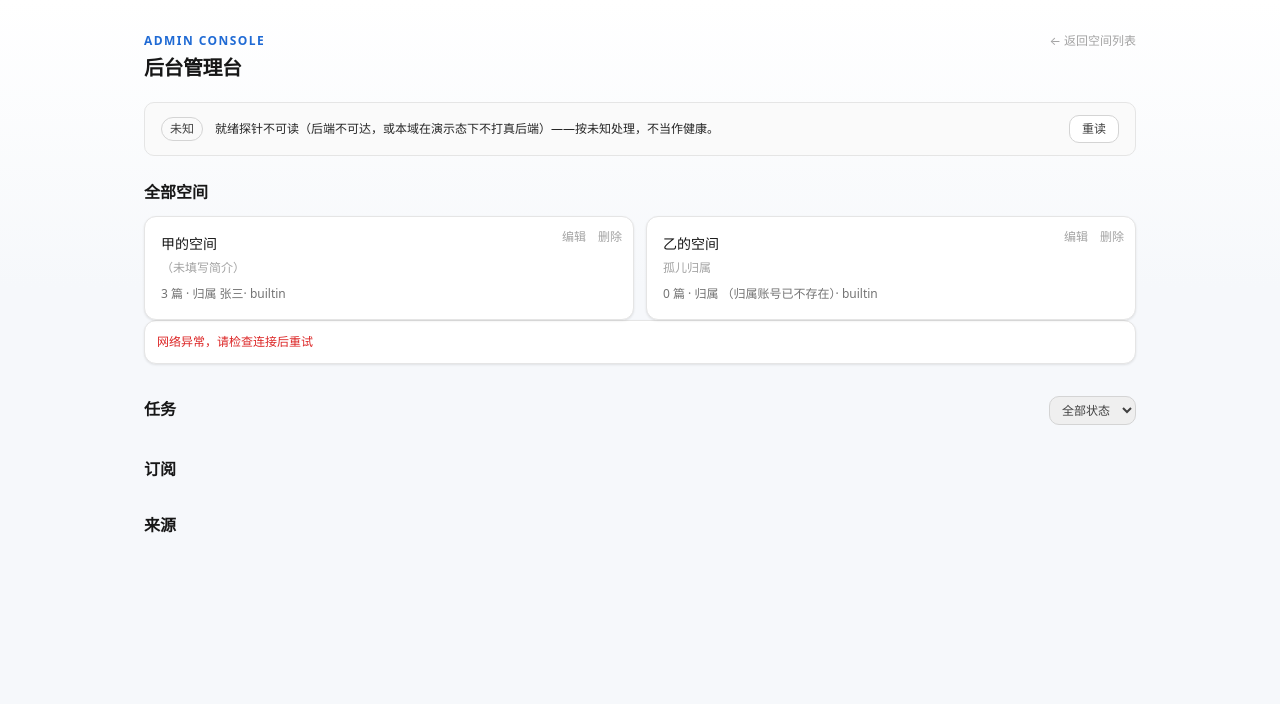
Test: 后台管理台：批量操作只走 admin 端点 › 批量改分类命中 /admin 变体，整批原子
Click the button "甲的空间 （未填写简介） 3 篇 · 归属 张三· builtin": (189, 244) x1=144 y1=216 x2=634 y2=320
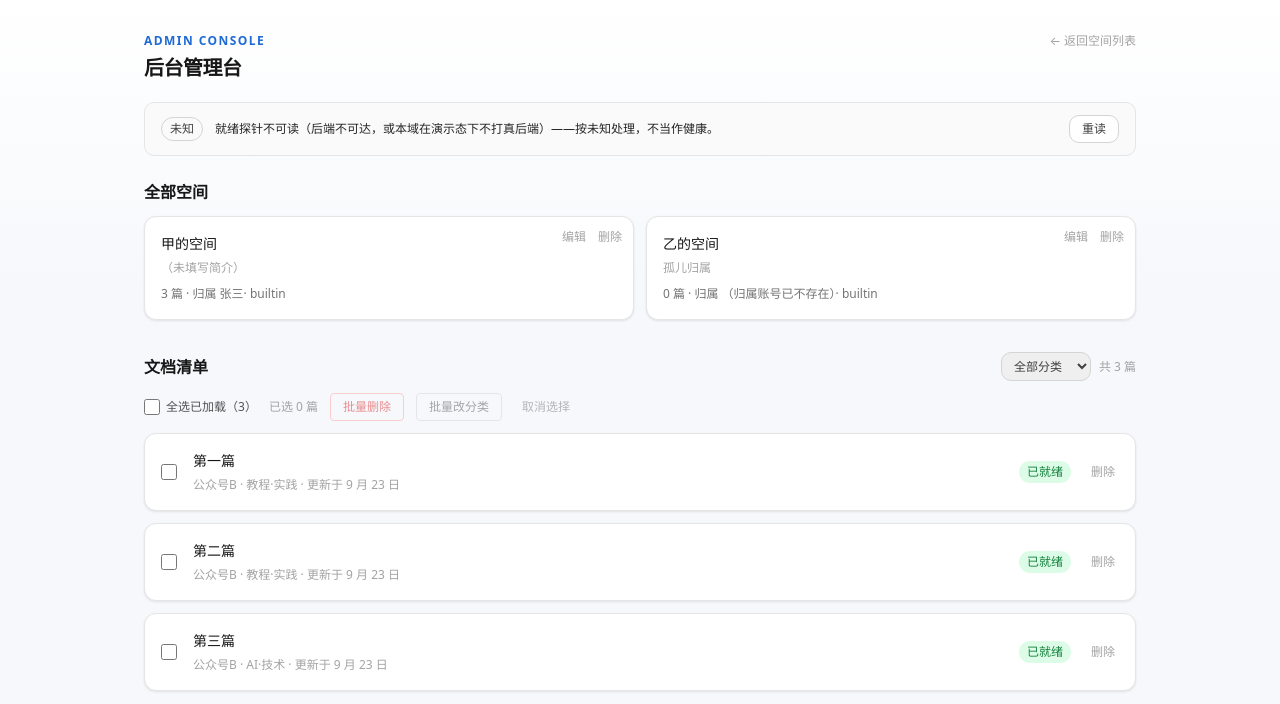
Expected: the text "第一篇" is shown, x1=193 y1=451 x2=235 y2=470
Click the checkbox named "选择文档：第一篇": (169, 472) x1=161 y1=464 x2=177 y2=480
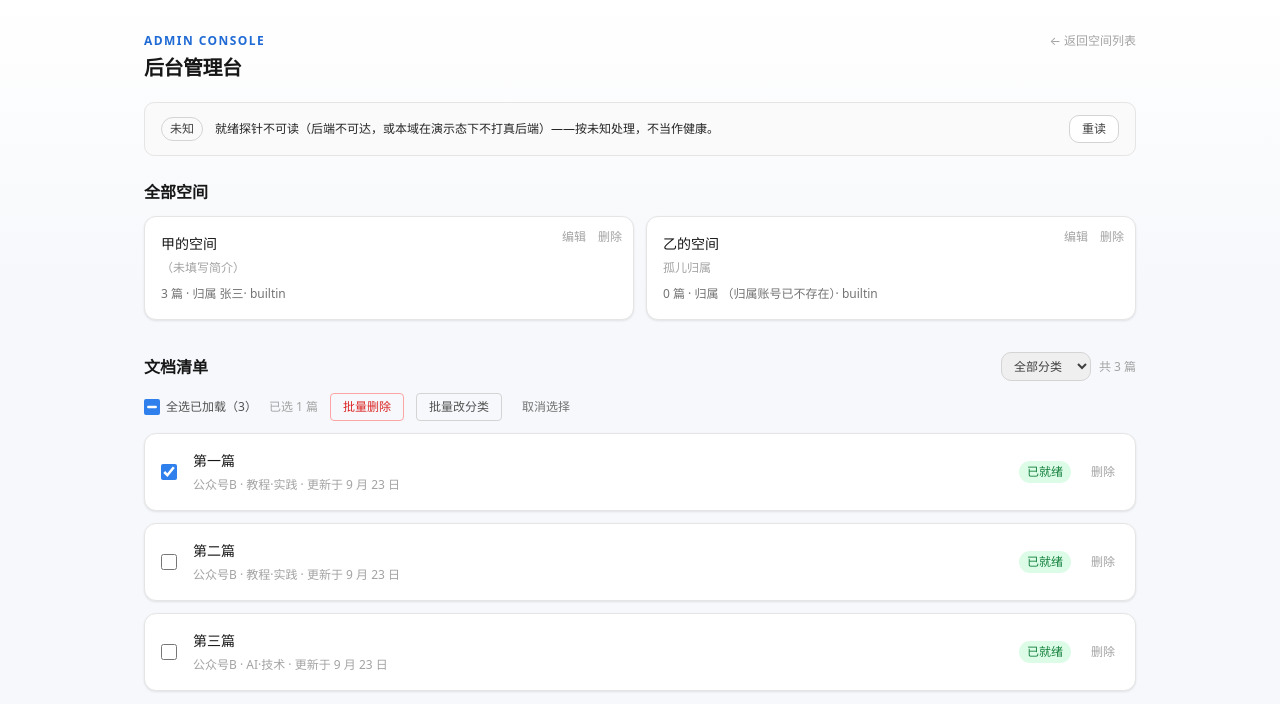
Click the checkbox named "选择文档：第三篇": (169, 652) x1=161 y1=644 x2=177 y2=660
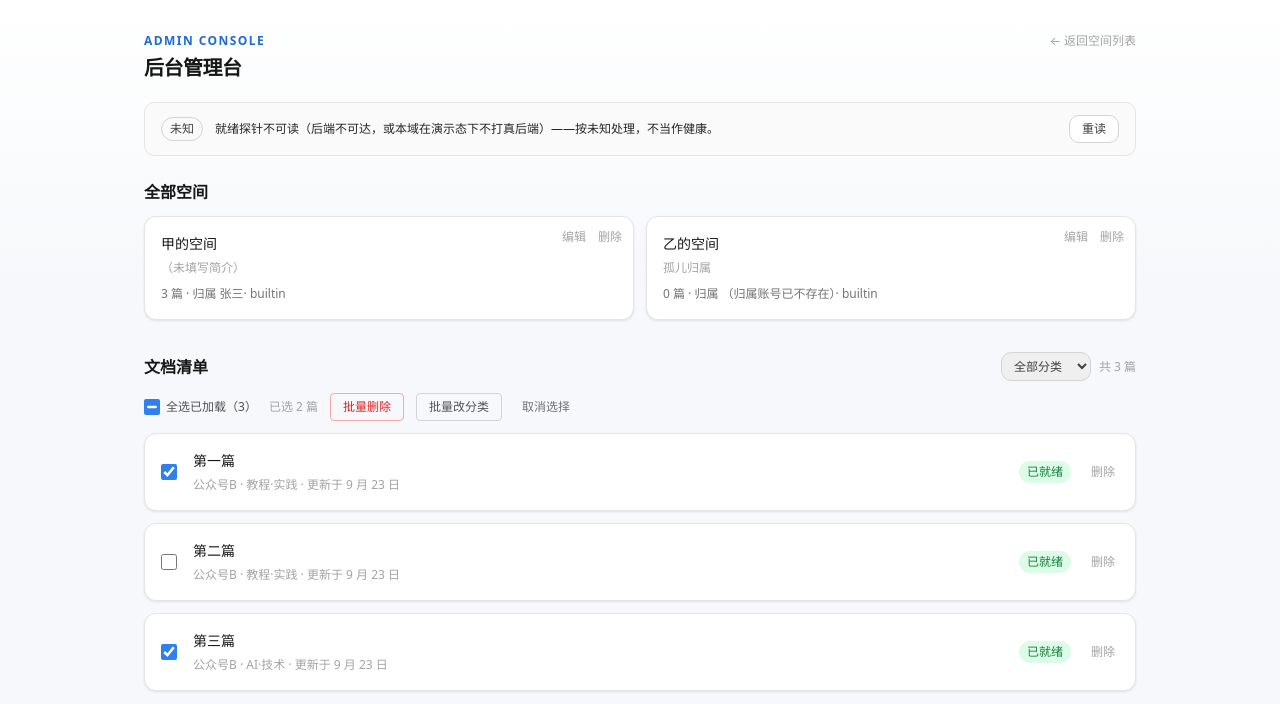
Click the button "批量改分类": (459, 407) x1=416 y1=393 x2=502 y2=421
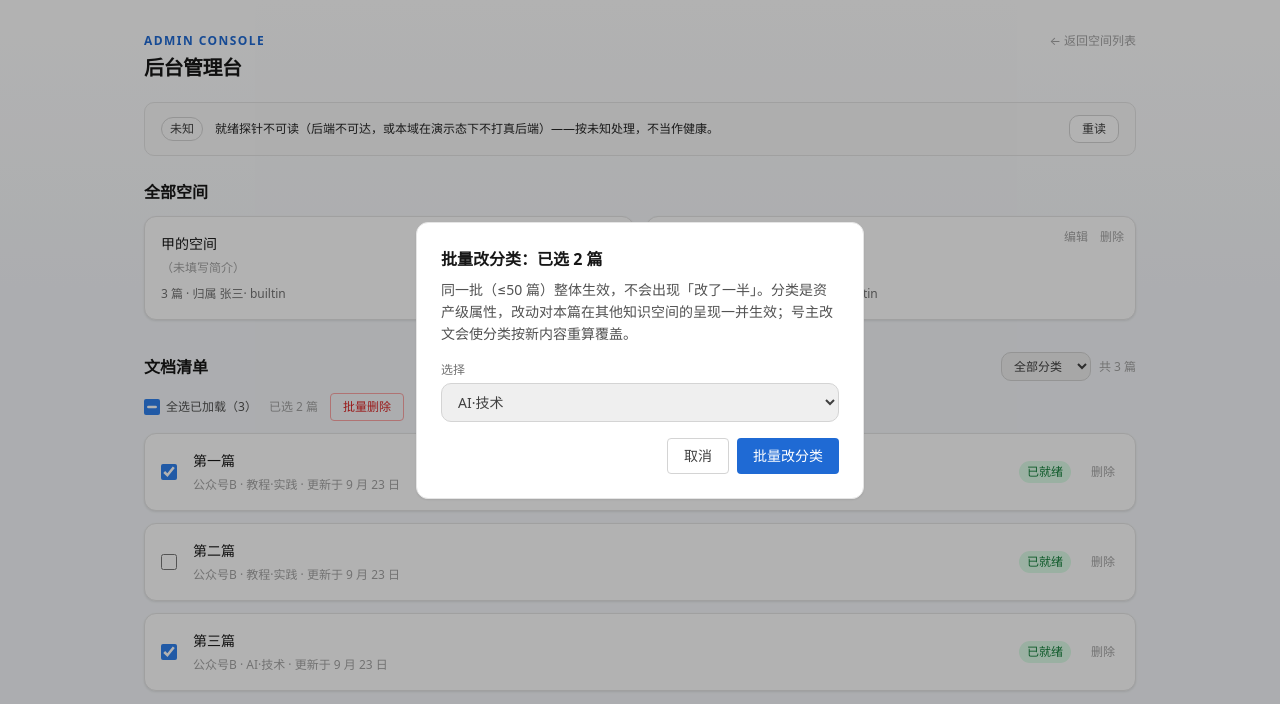
Select "教程·实践" in the dropdown labelled "选择": (640, 402) x1=441 y1=382 x2=839 y2=422
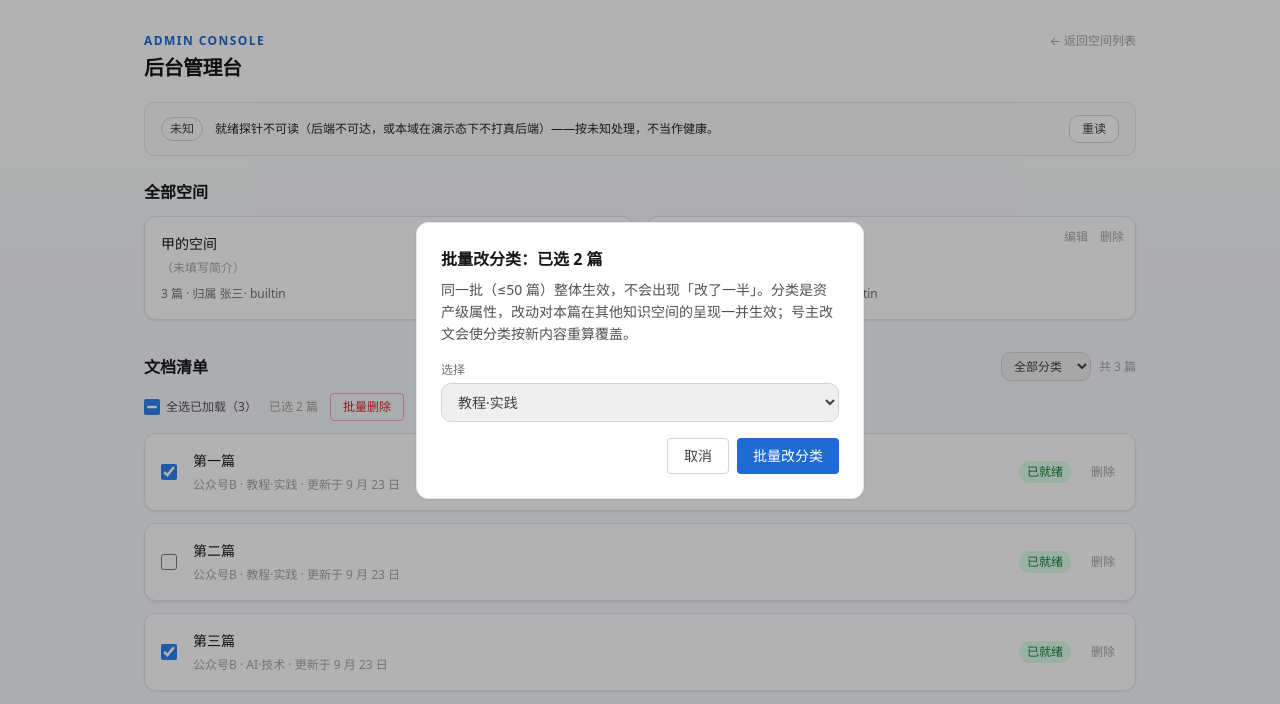
Click the button "批量改分类": (788, 456) x1=737 y1=438 x2=839 y2=474
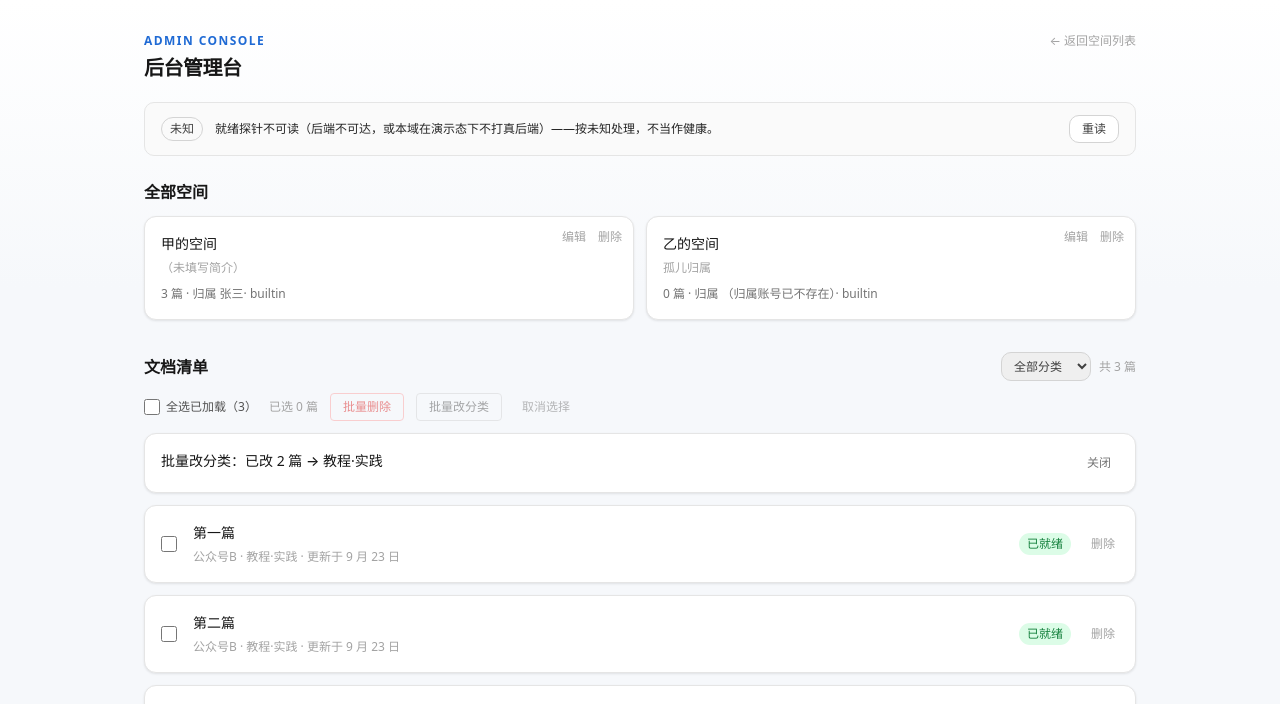
Expected: the text "批量改分类：已改 2 篇 → 教程·实践" is shown, x1=161 y1=451 x2=383 y2=470
Expected: the text "已选 0 篇" is shown, x1=269 y1=398 x2=318 y2=416
